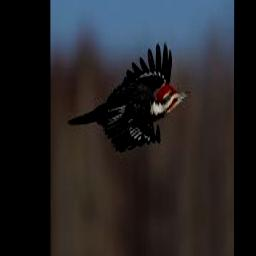Woodpecker: (68, 41, 191, 153)
